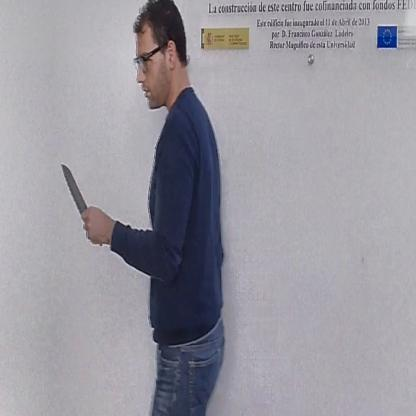knife: (56, 156, 97, 238)
